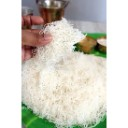idiyappam: (22, 53, 106, 125), (45, 23, 87, 58)
